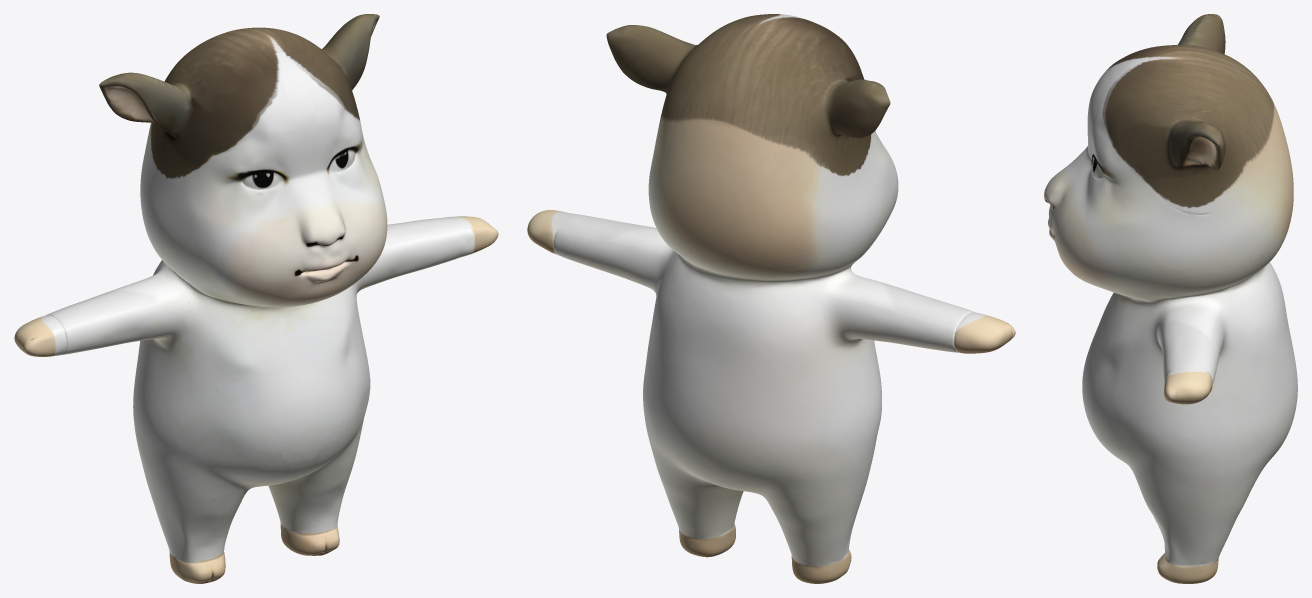
3 renders of one model, left to right at view 1: azimuth 30°, elevation 25°; view 2: azimuth 150°, elevation 25°; view 3: azimuth 270°, elevation 25°, orthographic. The views are drawn at different scales.
Visible parts, largest first — view 1: model; view 2: model; view 3: model.
Part boxes in pixels (x1,y1,x2,y2): model: (14,14,498,583); model: (527,14,1015,583); model: (1044,14,1297,583).
Size of the model in its own units: 1.64 by 1.75 by 0.8082.
Materials: 1 (1 with a texture image).
